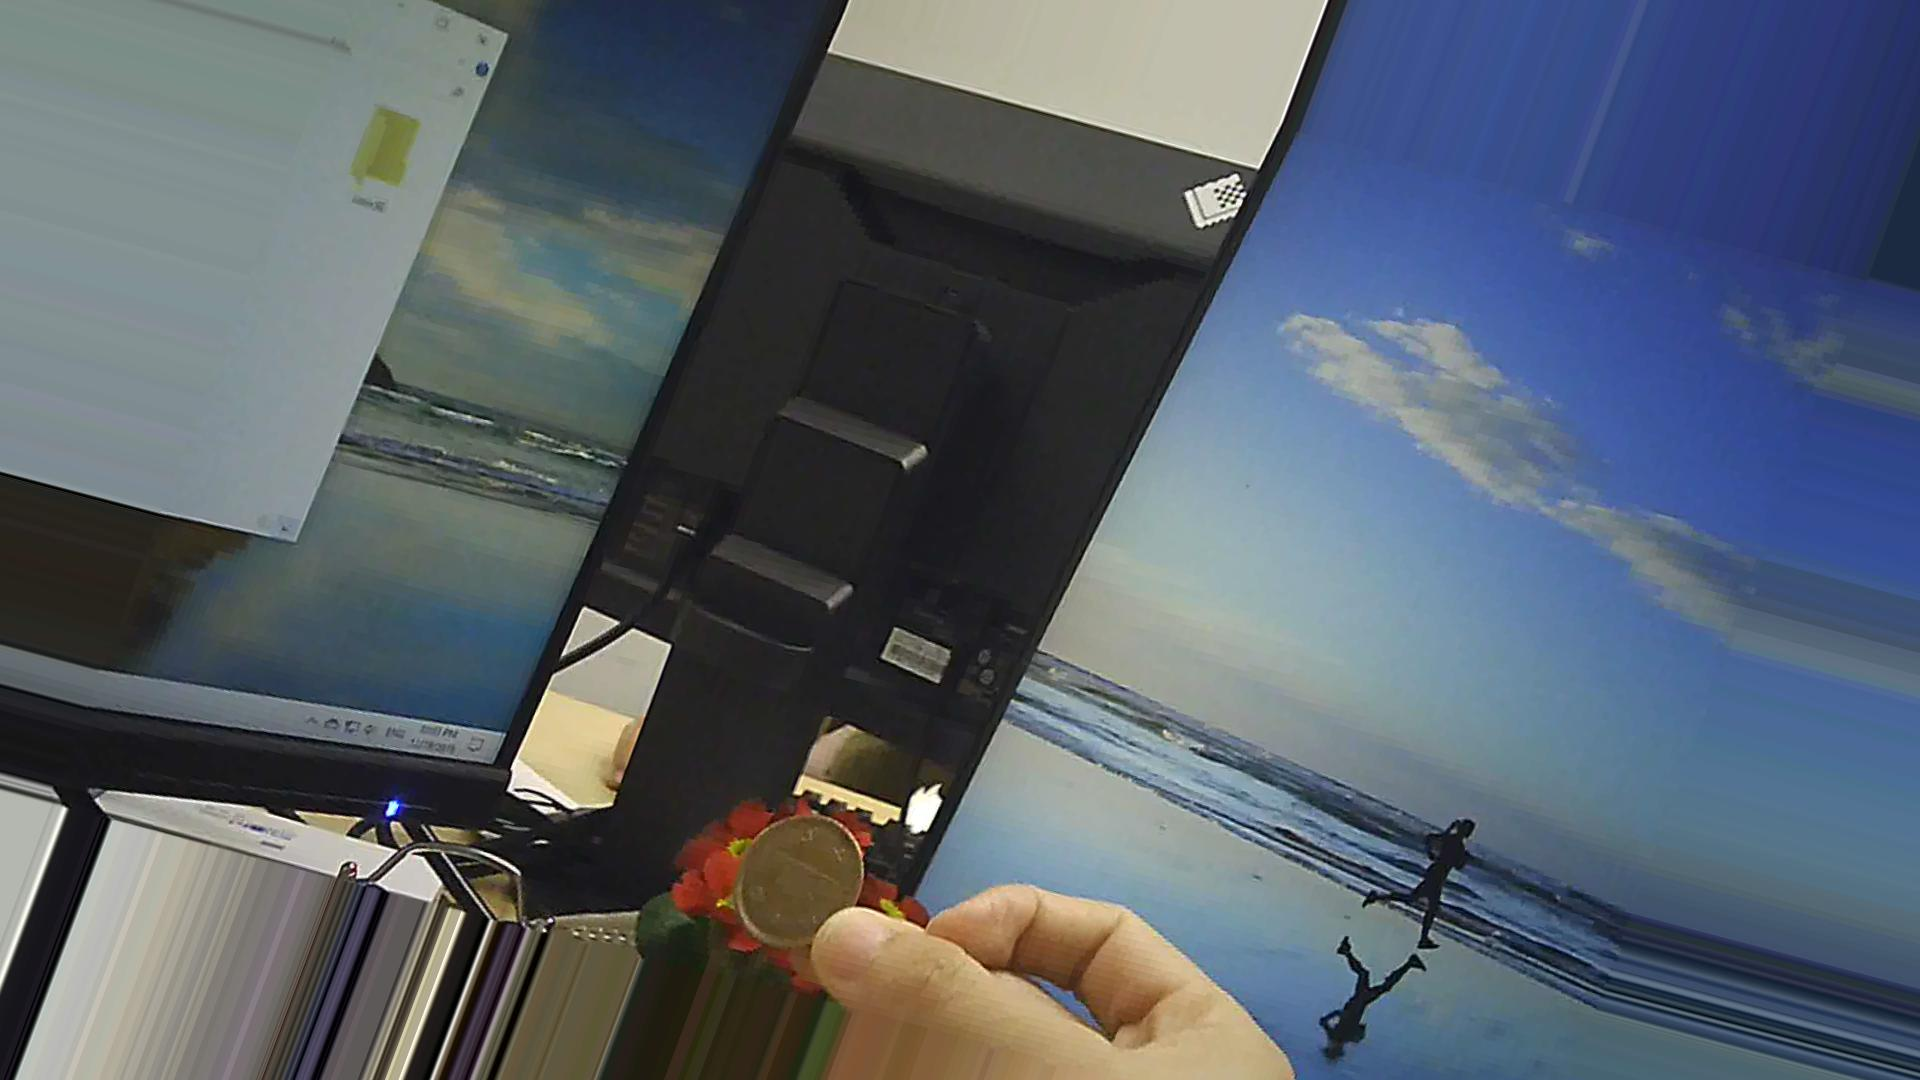10 Yen: (738, 822, 866, 957)
